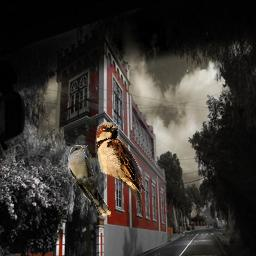Cuckoo: (68, 145, 111, 218)
Swallow: (95, 122, 145, 218)
